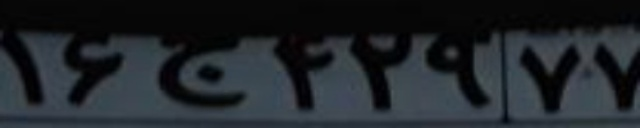1: (0, 29, 45, 104)
2: (347, 31, 413, 111)
4: (271, 34, 336, 111)
6: (56, 31, 125, 105)
7: (516, 42, 581, 113), (593, 41, 637, 113)
9: (420, 30, 499, 108)
jim: (156, 32, 248, 107)
